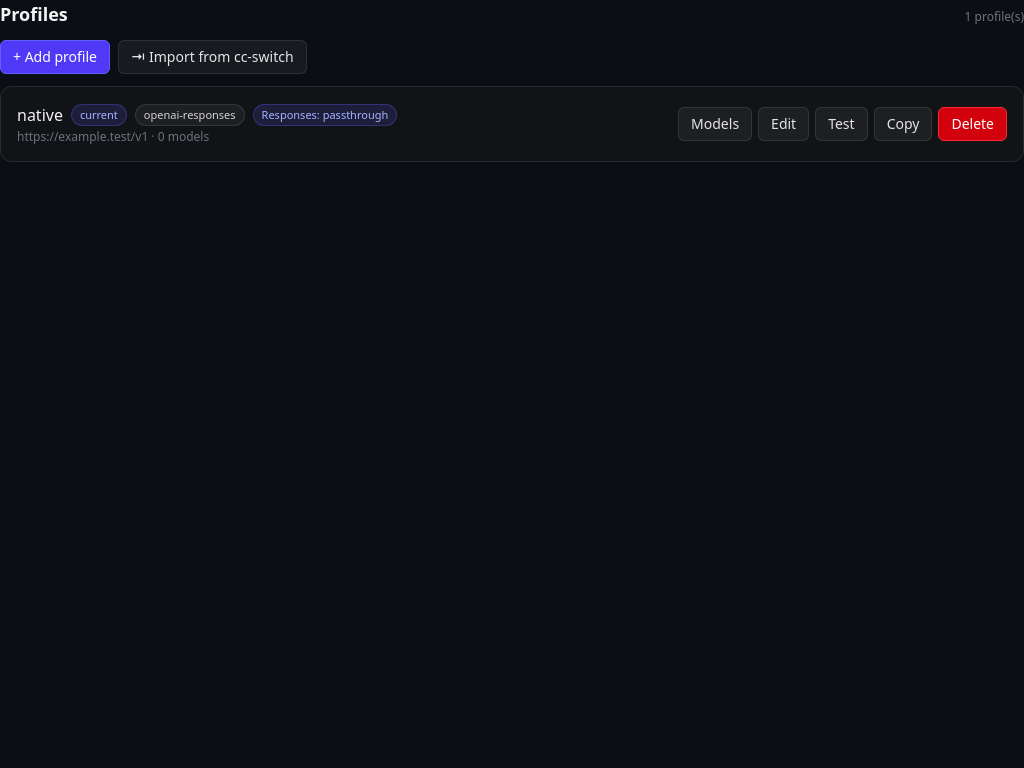
Scenario: provider Responses mode form › blocks a passthrough mode on a Chat Completions provider
Click the button "Edit" at (784, 124), box [758,107,809,141]
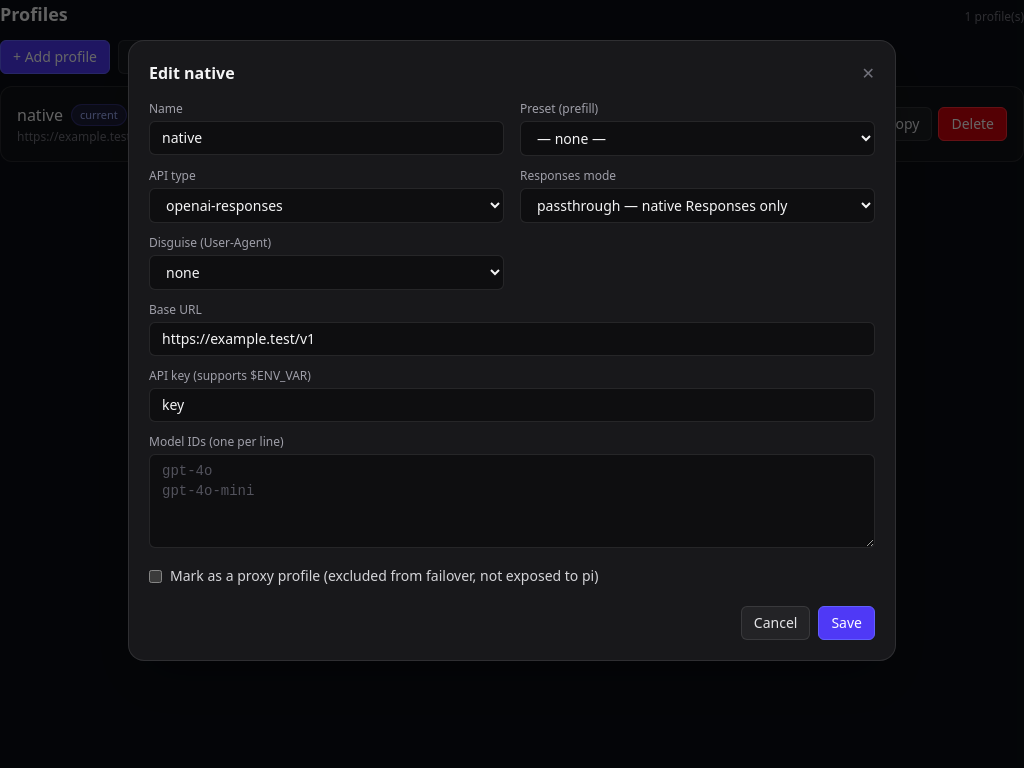
Check: the number of dropdowns is 4
Select "openai-completions" in the dropdown below "API type" at (326, 206), box [149,188,504,223]
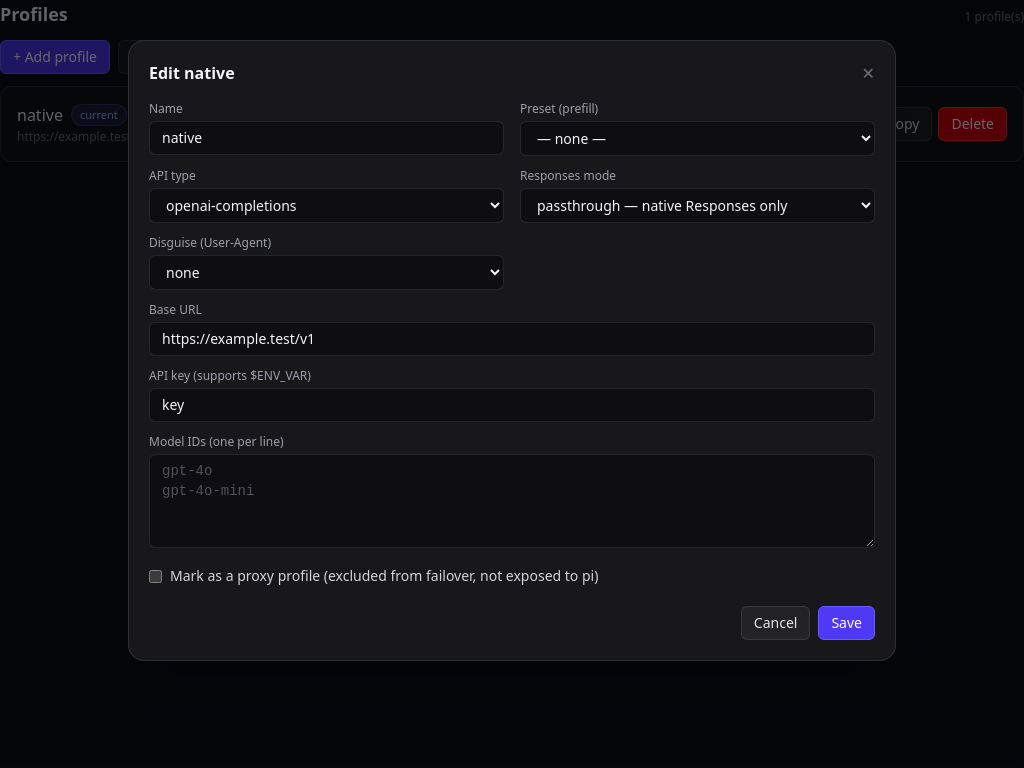
Click the button "Save" at (847, 623), box [818,606,875,640]
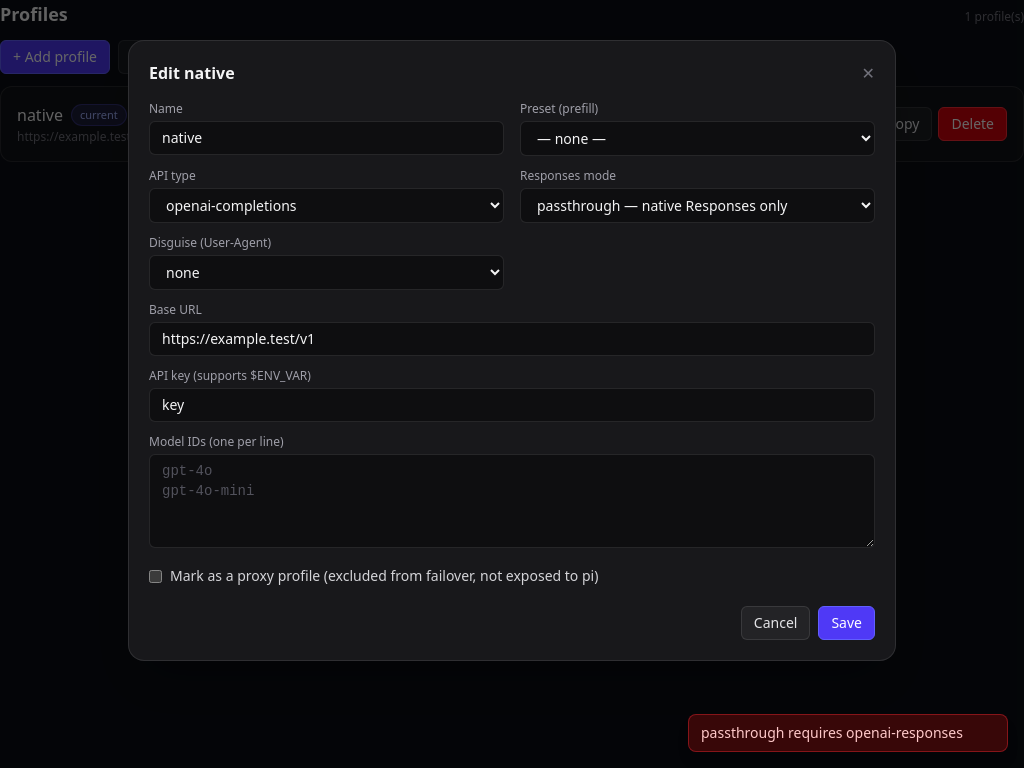
Check: the text "passthrough requires openai-responses" is shown, box [688,714,1008,752]
